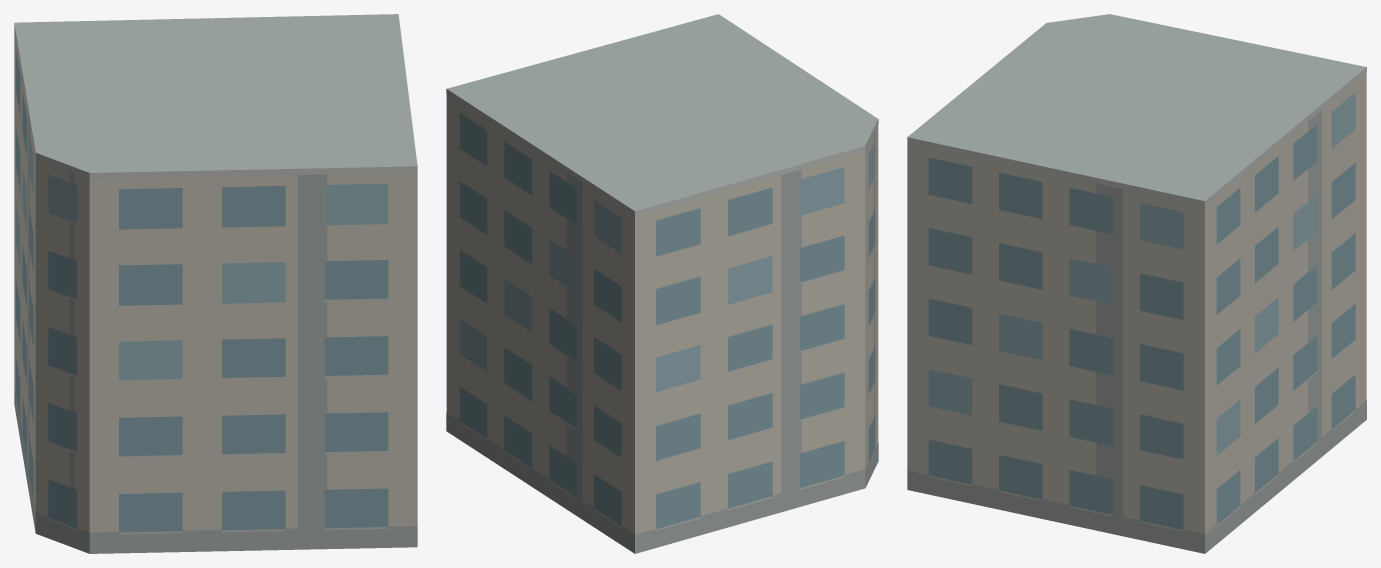
The model's file is survey-upis-33002298.glb.
3 renders of one model, left to right at view 1: azimuth 30°, elevation 25°; view 2: azimuth 150°, elevation 25°; view 3: azimuth 270°, elevation 25°, orthographic. The views are drawn at different scales.
Parts seen in each view (by area): view 1: survey-upis-33002298.tmp; view 2: survey-upis-33002298.tmp; view 3: survey-upis-33002298.tmp.
Boxes of the visible parts, x1,y1,x2,y2 form: survey-upis-33002298.tmp: (14,14,417,553); survey-upis-33002298.tmp: (446,14,878,553); survey-upis-33002298.tmp: (907,14,1366,553).
Bounding box in the file's own units: 17.37 × 15.25 × 18.01.
